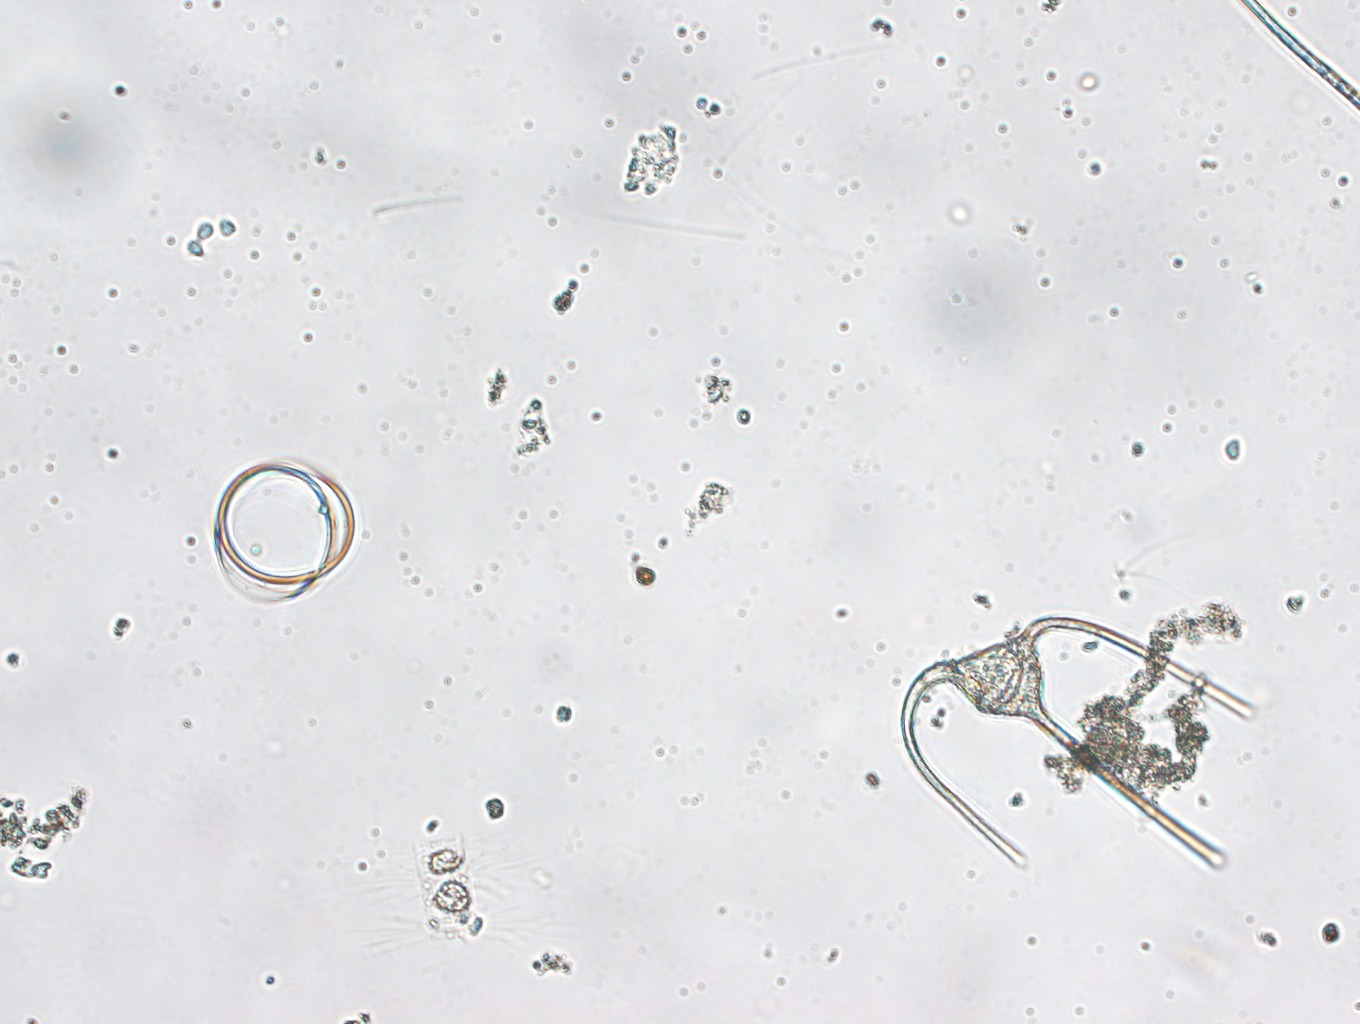ceratium tripos: (883, 616, 1282, 869)
